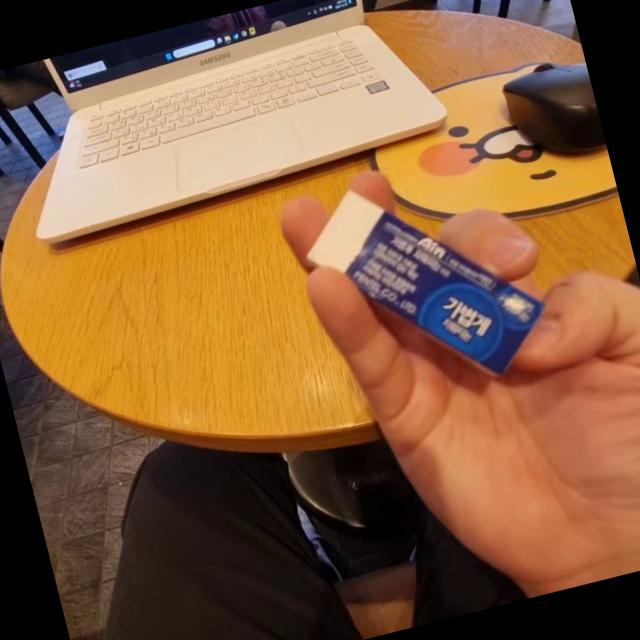eraser: (293, 140, 555, 408)
grab_eraser: (260, 108, 640, 620)
mouse: (475, 48, 610, 186)
